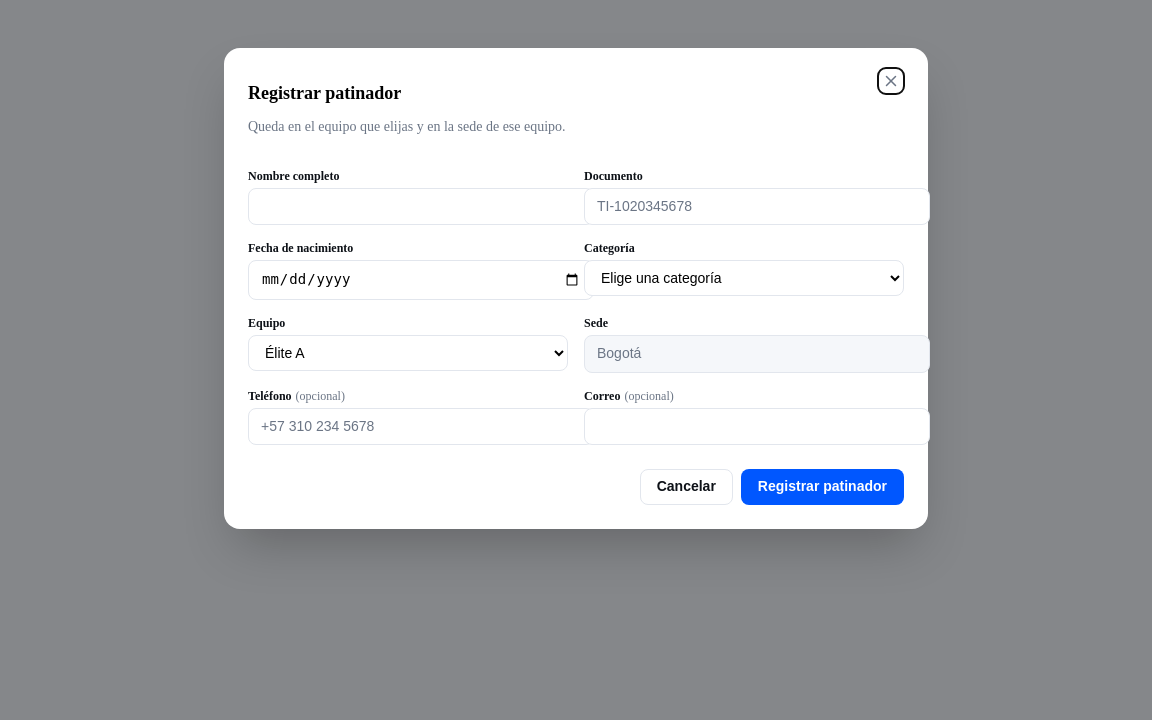
SkaterFormModal › no envía si faltan datos obligatorios
Click the button "Registrar patinador".
click(822, 487)  # box [741,469,904,505]
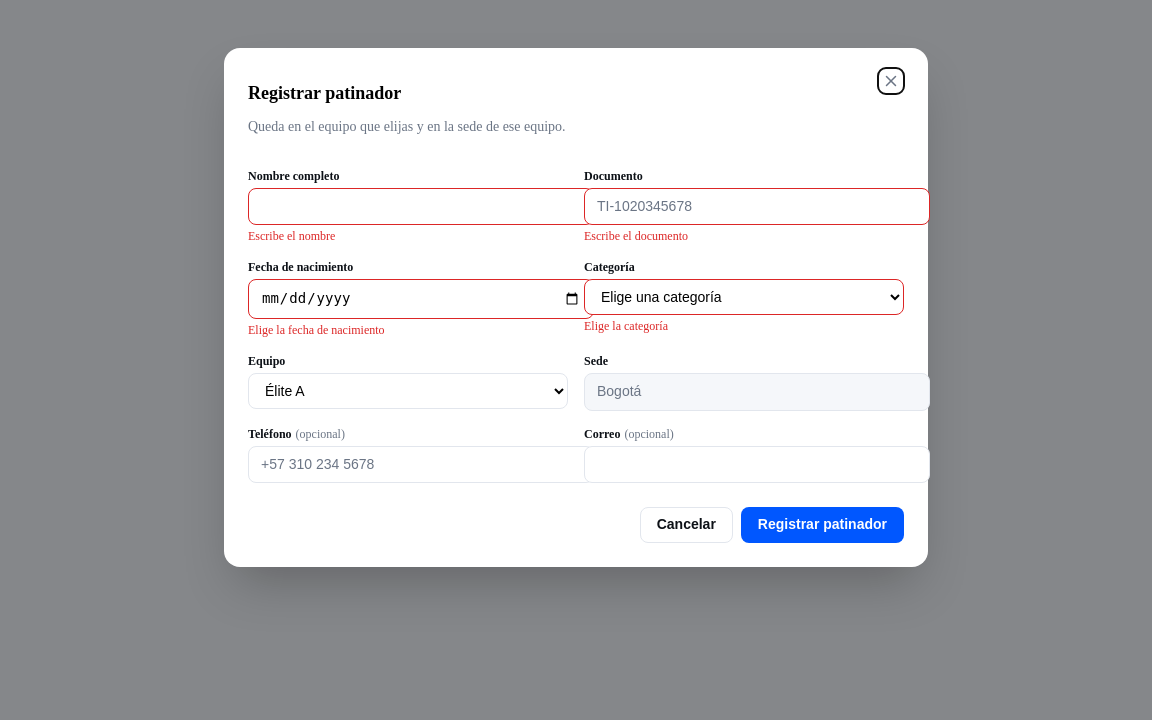
Expected: the text "Escribe el nombre" is shown, [248,230,335,244]
